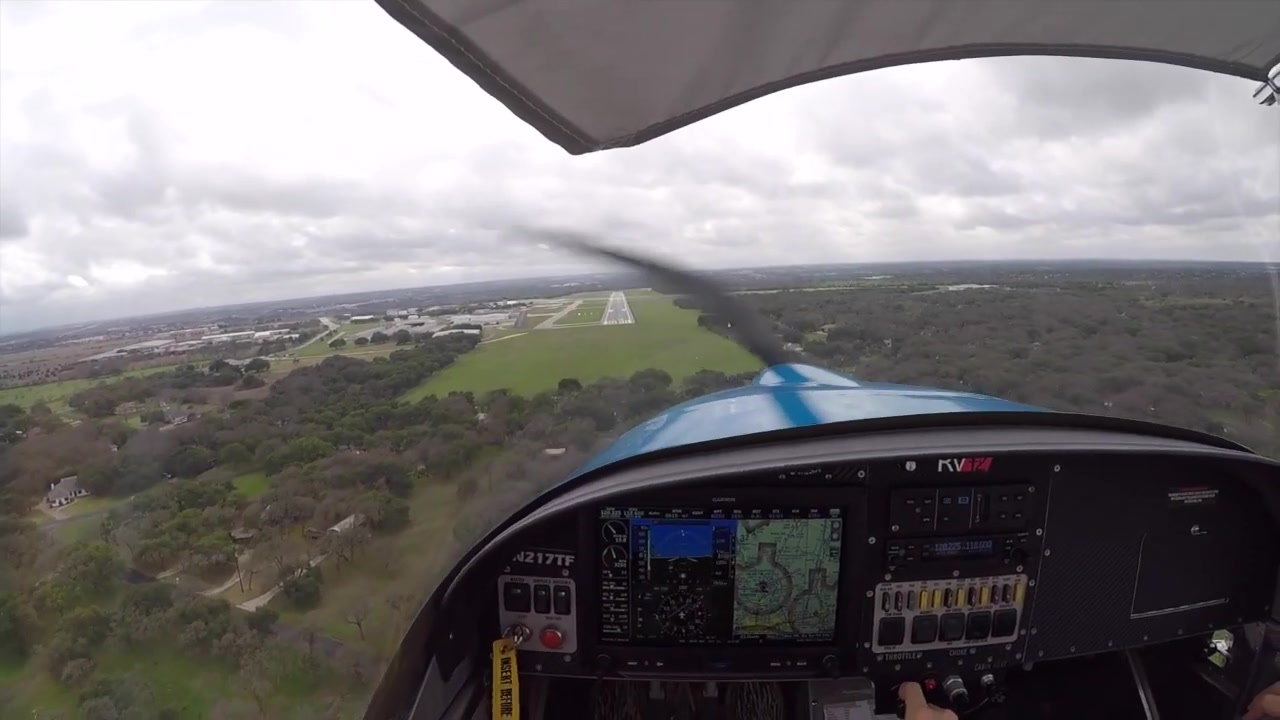entrance: (604, 319, 631, 325)
runway: (603, 291, 633, 327)
